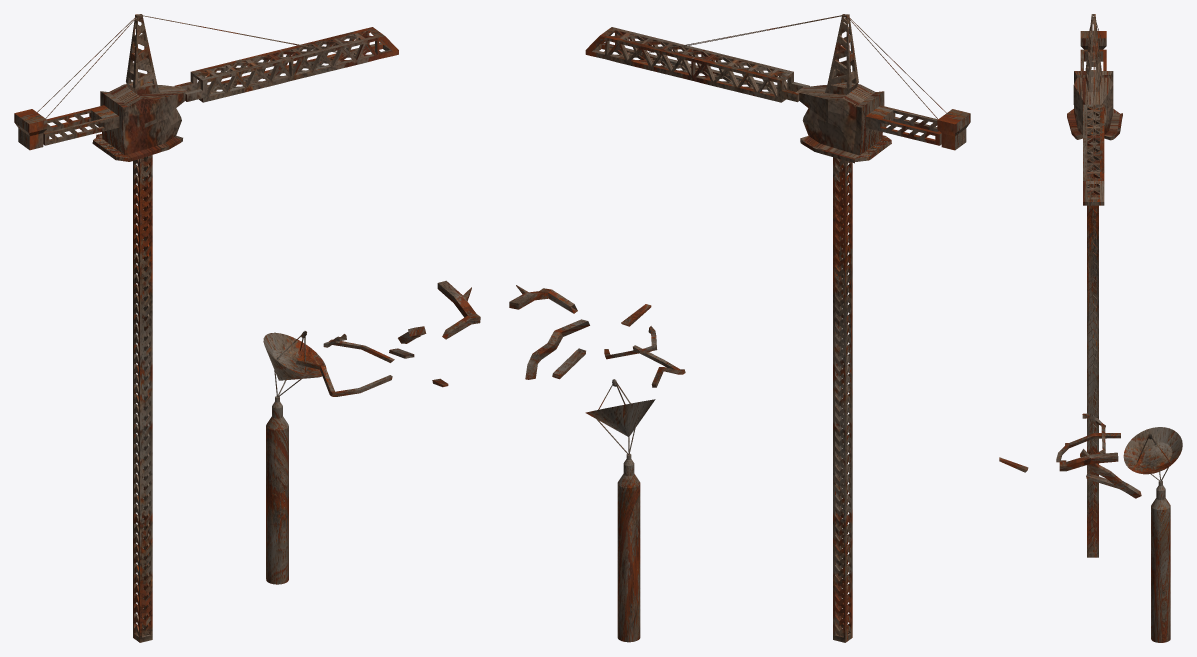
The model's file is LevelPart02.FBX.
The picture shows the model from 3 angles, left to right: view 1: azimuth 30°, elevation 25°; view 2: azimuth 150°, elevation 25°; view 3: azimuth 270°, elevation 25°; orthographic projection. The views are drawn at different scales.
Parts seen in each view (by area): view 1: Go-Go_Crane, Exciting_Satellite_Dish, Flatporms; view 2: Go-Go_Crane, Exciting_Satellite_Dish, Flatporms; view 3: Go-Go_Crane, Exciting_Satellite_Dish, Flatporms.
Part boxes in pixels (x1,y1,x2,y2): Go-Go_Crane: [14, 14, 398, 642]; Exciting_Satellite_Dish: [263, 331, 326, 584]; Flatporms: [296, 280, 480, 396]; Go-Go_Crane: [585, 14, 970, 642]; Exciting_Satellite_Dish: [585, 379, 655, 642]; Flatporms: [509, 285, 685, 387]; Go-Go_Crane: [1067, 14, 1122, 557]; Exciting_Satellite_Dish: [1123, 427, 1182, 642]; Flatporms: [999, 413, 1141, 498].
Size of the model in its own units: 639 by 867 by 263.
Materials: 1 (1 with a texture image).
